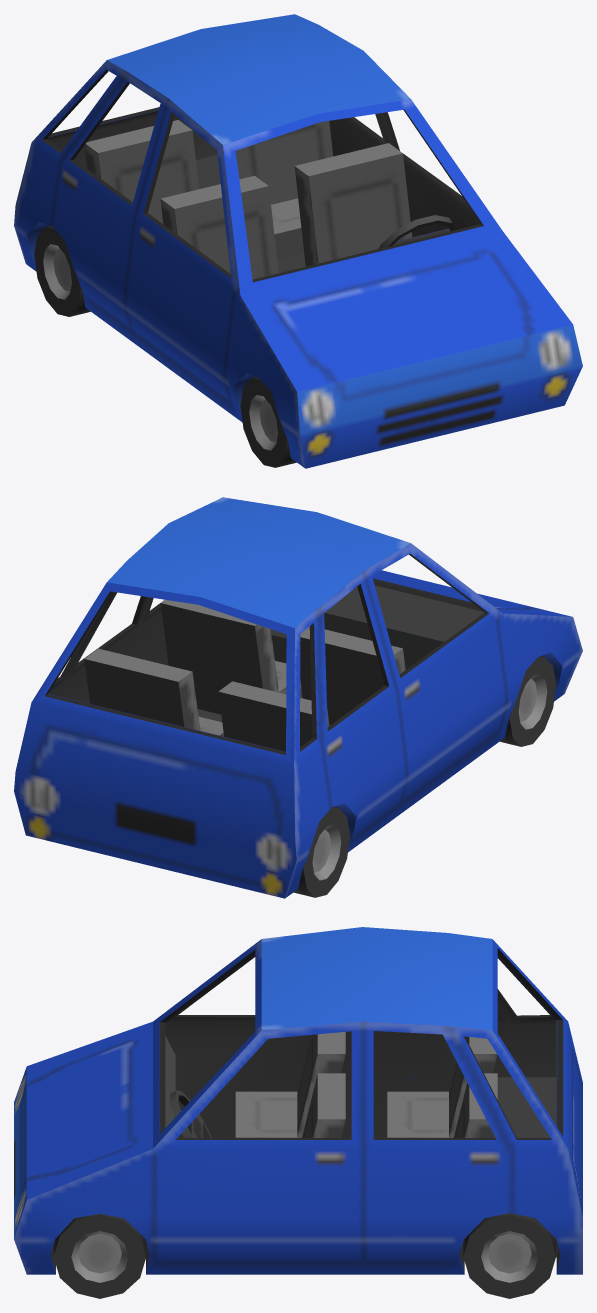
File: Car_002.FBX
3 renders of one model, top to bottom at view 1: azimuth 30°, elevation 25°; view 2: azimuth 150°, elevation 25°; view 3: azimuth 270°, elevation 25°, orthographic.
Visible parts, largest first — view 1: Car_002, Car_002_Rear_Wheel, Car_002_Right_Wheel; view 2: Car_002, Car_002_Rear_Wheel, Car_002_Right_Wheel; view 3: Car_002, Car_002_Rear_Wheel, Car_002_Left_Wheel.
Boxes of the visible parts, left/top/right/bottom form: Car_002: left=14, top=14, right=582, bottom=468; Car_002_Rear_Wheel: left=34, top=225, right=90, bottom=316; Car_002_Right_Wheel: left=240, top=377, right=296, bottom=467; Car_002: left=14, top=497, right=582, bottom=898; Car_002_Rear_Wheel: left=293, top=806, right=349, bottom=897; Car_002_Right_Wheel: left=500, top=656, right=556, bottom=746; Car_002: left=14, top=927, right=582, bottom=1274; Car_002_Rear_Wheel: left=463, top=1213, right=555, bottom=1298; Car_002_Left_Wheel: left=53, top=1214, right=146, bottom=1298.
Size of the model in its own units: 175 by 307 by 159.
